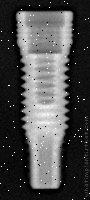Neodent: (9, 10, 74, 192)
